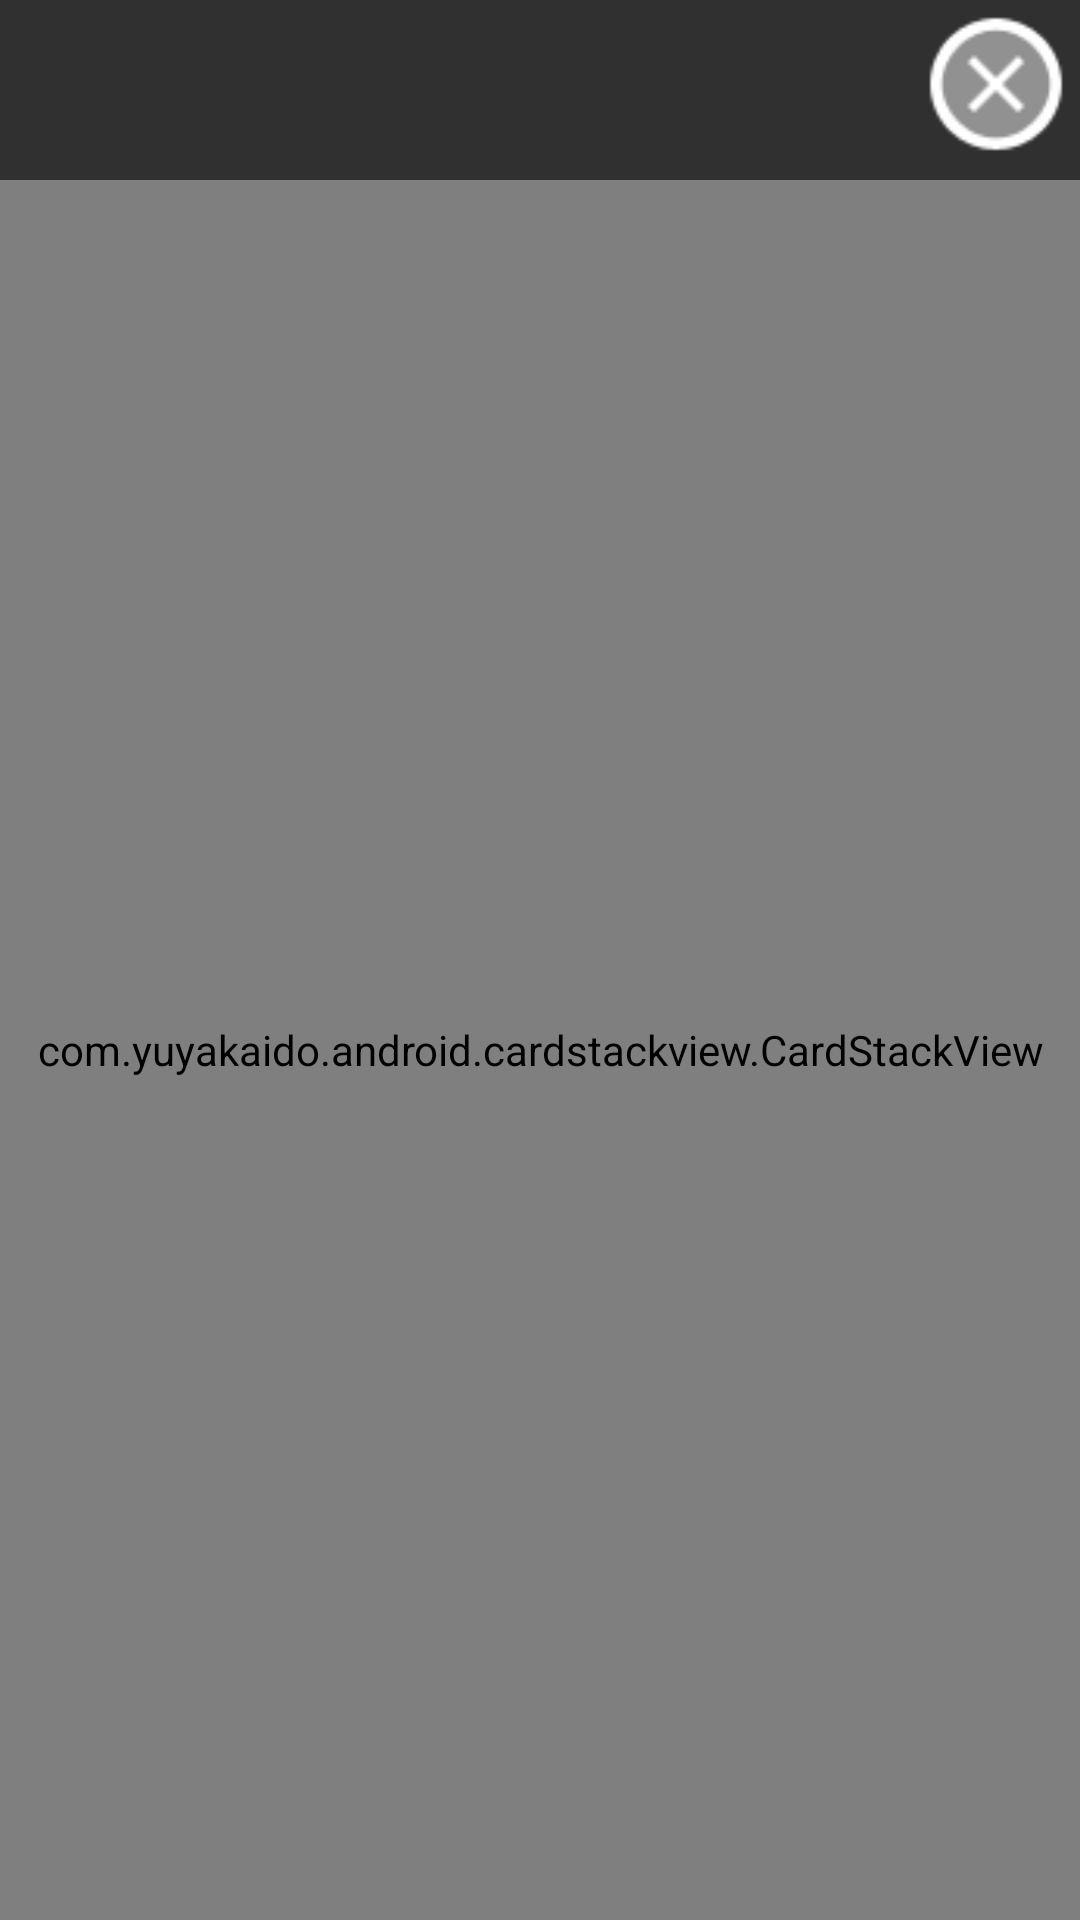

Icon bounding boxes for this 1080x1920 phone screenshot, format (x1, y1, x2, y2):
presence offline: (929, 17, 1063, 151)
